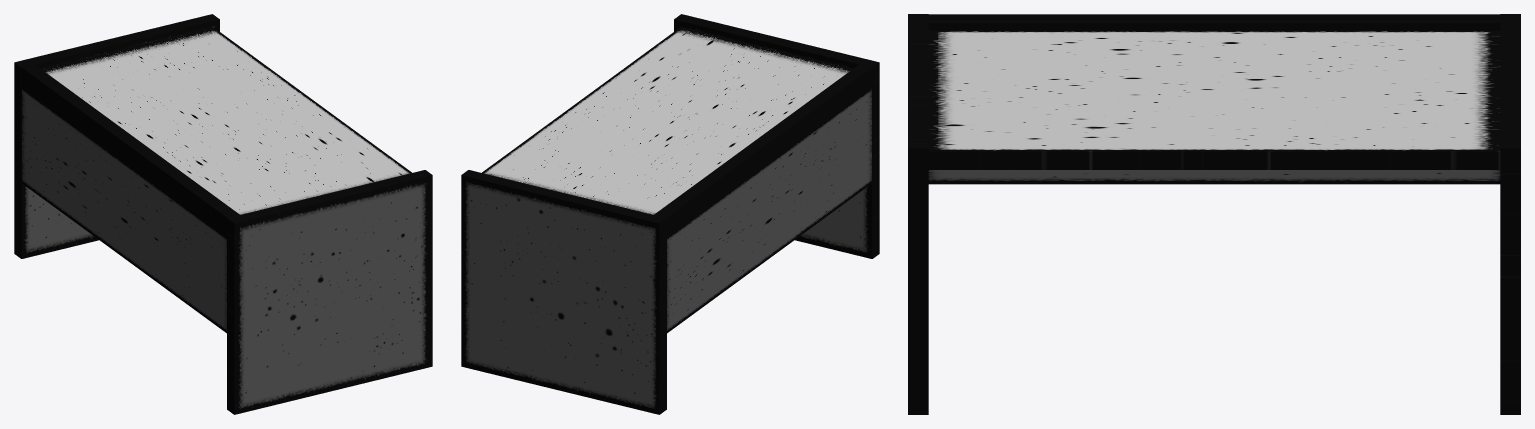
Rendered from office_desk.obj.
3 renders of one model, left to right at view 1: azimuth 30°, elevation 25°; view 2: azimuth 150°, elevation 25°; view 3: azimuth 270°, elevation 25°, orthographic. The views are drawn at different scales.
Visible parts, largest first — view 1: office_desk; view 2: office_desk; view 3: office_desk.
Boxes of the visible parts, x1=… form: office_desk: x1=14, y1=14, x2=432, y2=414; office_desk: x1=461, y1=14, x2=879, y2=414; office_desk: x1=908, y1=14, x2=1520, y2=414.
Bounding box in the file's own units: 2.22 × 2.05 × 4.26.
